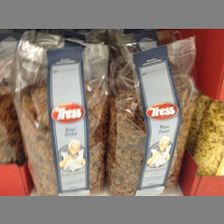pasta: (12, 38, 110, 194), (109, 43, 196, 195)
